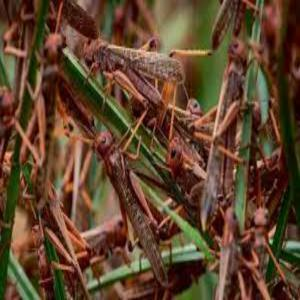locust: (85, 33, 173, 107)
